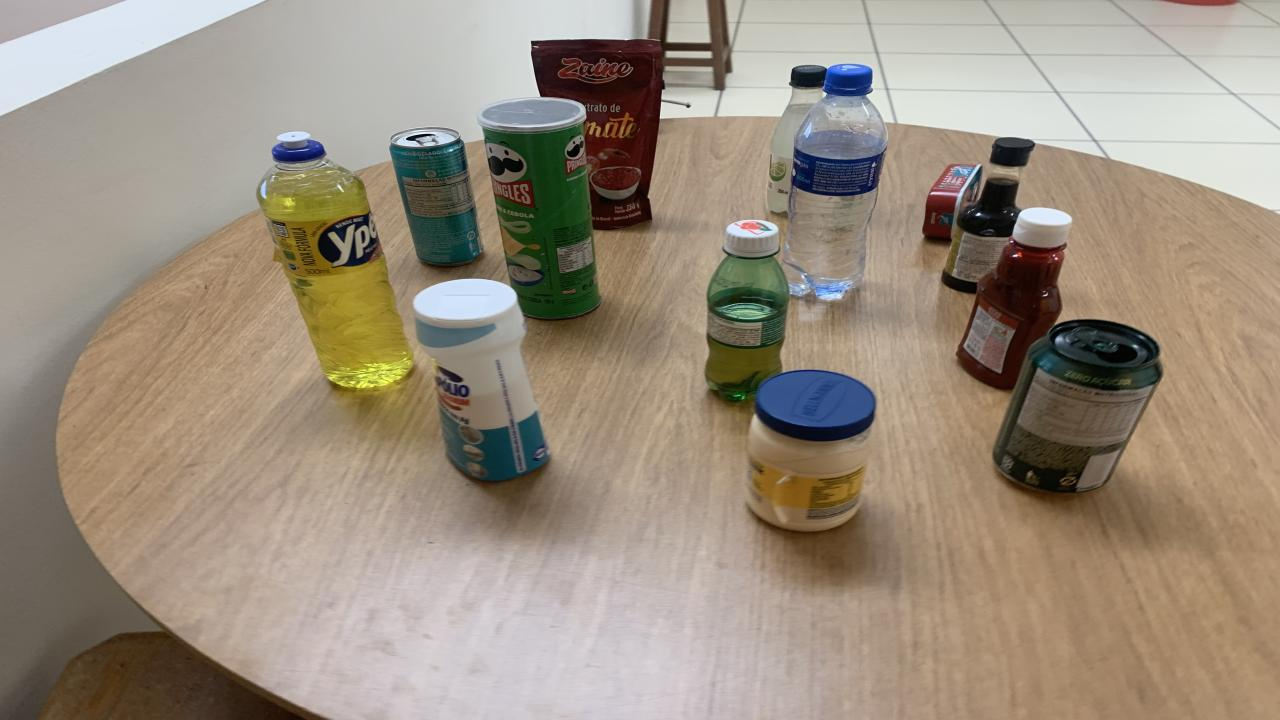Cleaner-Cleanup_Items: (412, 279, 550, 482)
Detergent-Cleanup_Items: (258, 131, 412, 388)
English_Sauce-Pantry_Items: (942, 137, 1035, 292)
Guarana-Drinks: (705, 219, 788, 401)
Guarana_Can-Drinks: (992, 319, 1162, 493)
Ketchup-Pantry_Items: (958, 208, 1070, 388)
Mayonnaise-Pantry_Items: (748, 369, 875, 531)
Pringles-Snacks: (478, 98, 600, 319)
Soda-Drinks: (768, 66, 828, 214)
Tea-Drinks: (390, 128, 482, 266)
Tomato_Sauce-Pantry_Items: (532, 39, 662, 229)
Tuna_Can-Pantry_Items: (922, 165, 982, 240)
Water_Bottle-Drinks: (782, 64, 888, 300)
